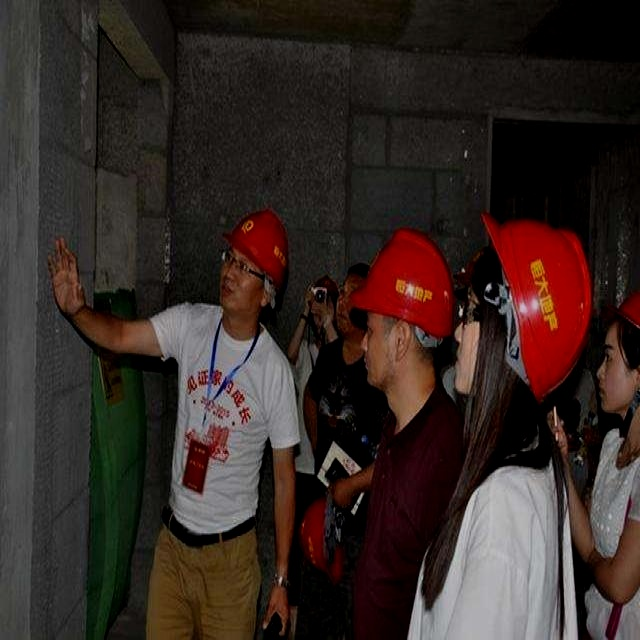Con_Casco: (359, 227, 454, 393), (221, 210, 291, 284)
Sin_Chaleco: (175, 304, 289, 539)
